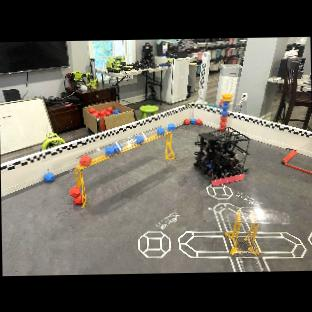Goal: (65, 124, 173, 175)
Low_goal: (227, 225, 266, 271)
Med_goal: (201, 206, 294, 224)
Parking-R: (281, 149, 312, 176)
Robot: (191, 126, 252, 187)
V5_BLUE: (42, 171, 57, 183), (190, 117, 196, 124)
V5_RED: (67, 184, 81, 198), (72, 194, 84, 206), (182, 118, 189, 126), (195, 118, 201, 126)
blueingoal: (133, 134, 144, 144), (104, 146, 114, 156), (112, 143, 122, 152), (156, 127, 165, 135), (167, 122, 175, 131)
blueinloader: (219, 111, 229, 116), (222, 104, 227, 110), (222, 100, 229, 104)
redingoal: (79, 156, 93, 166)
redloader: (219, 115, 228, 122), (219, 121, 228, 126), (217, 126, 225, 131)
